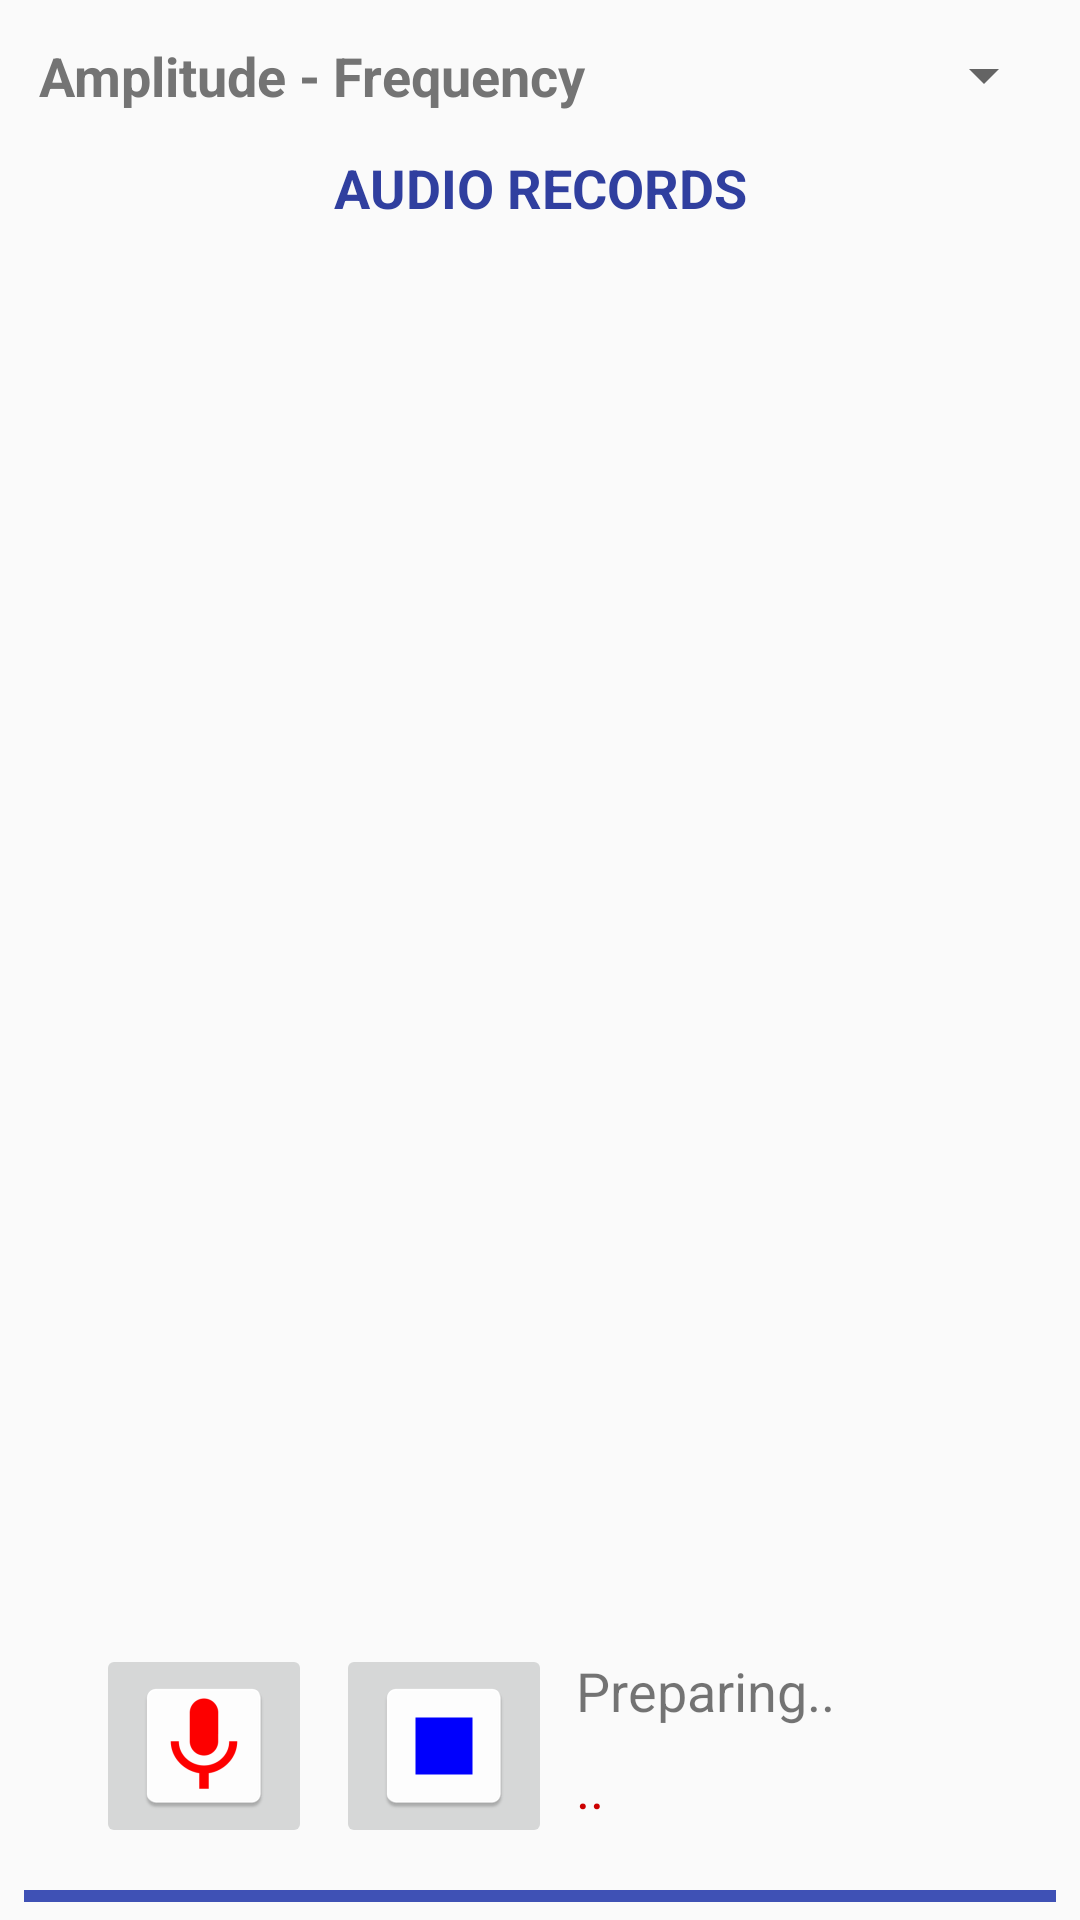

Locate icon controls on the screen. Image size 1080px x 1920px, boxes as (x1, y1, x2, y2).
mic: (108, 1662, 300, 1830)
stop: (348, 1662, 540, 1830)
